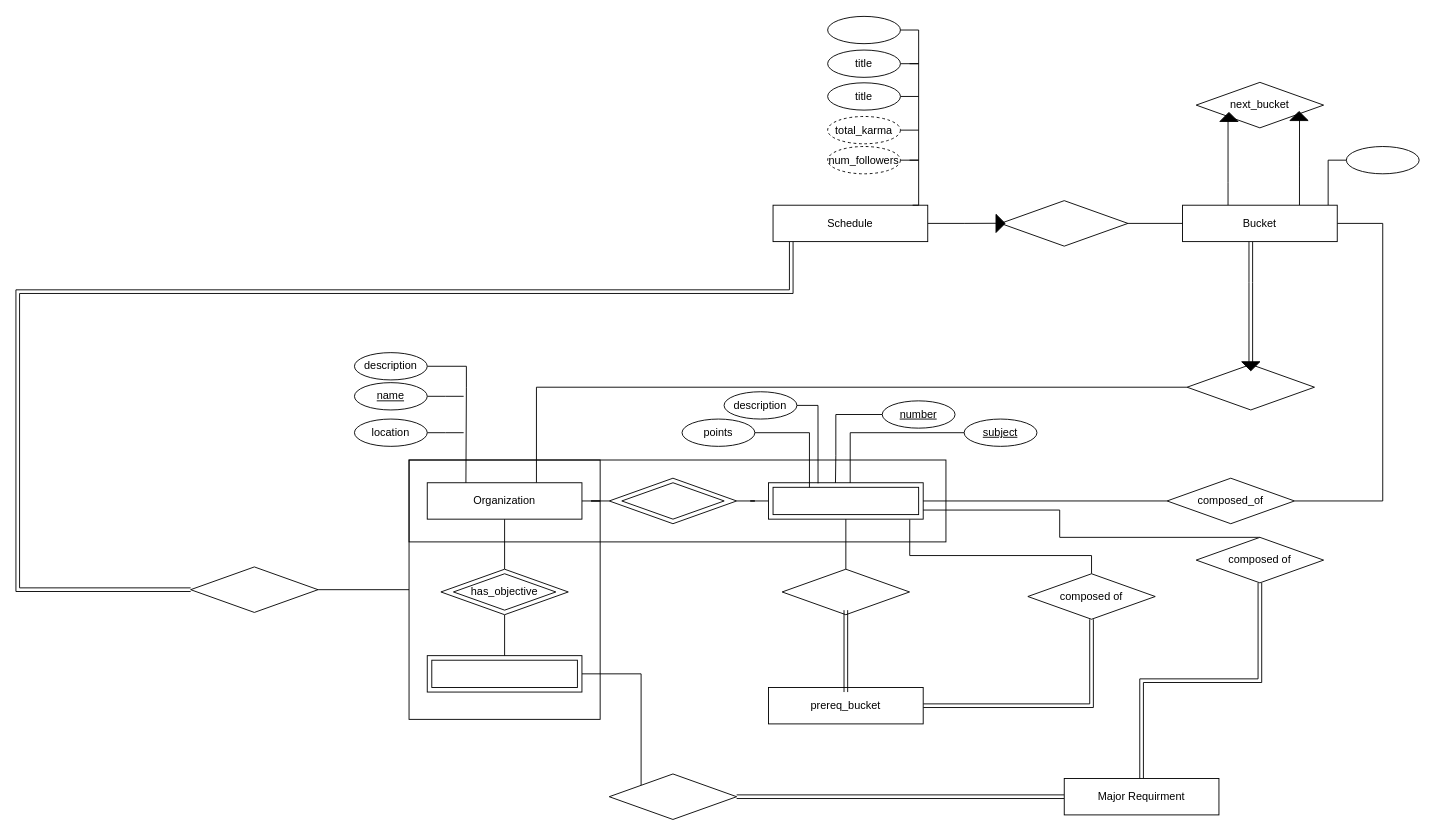
The diagram is 1435 pixels wide and 835 high, and some of its shapes have lost their labels. Here are the shapes that lost their labels. From the top down, the box of each, then its label:
(827, 15, 900, 44): schedule_id
(1345, 146, 1419, 174): bucket_id
(1000, 200, 1128, 246): has_bucket
(1186, 364, 1314, 410): constrains
(608, 477, 737, 524): has_task
(768, 482, 923, 519): Task
(190, 566, 318, 612): built_to_complete
(781, 568, 910, 615): path_options
(426, 655, 582, 692): Objective / Mission
(608, 773, 737, 819): requires
